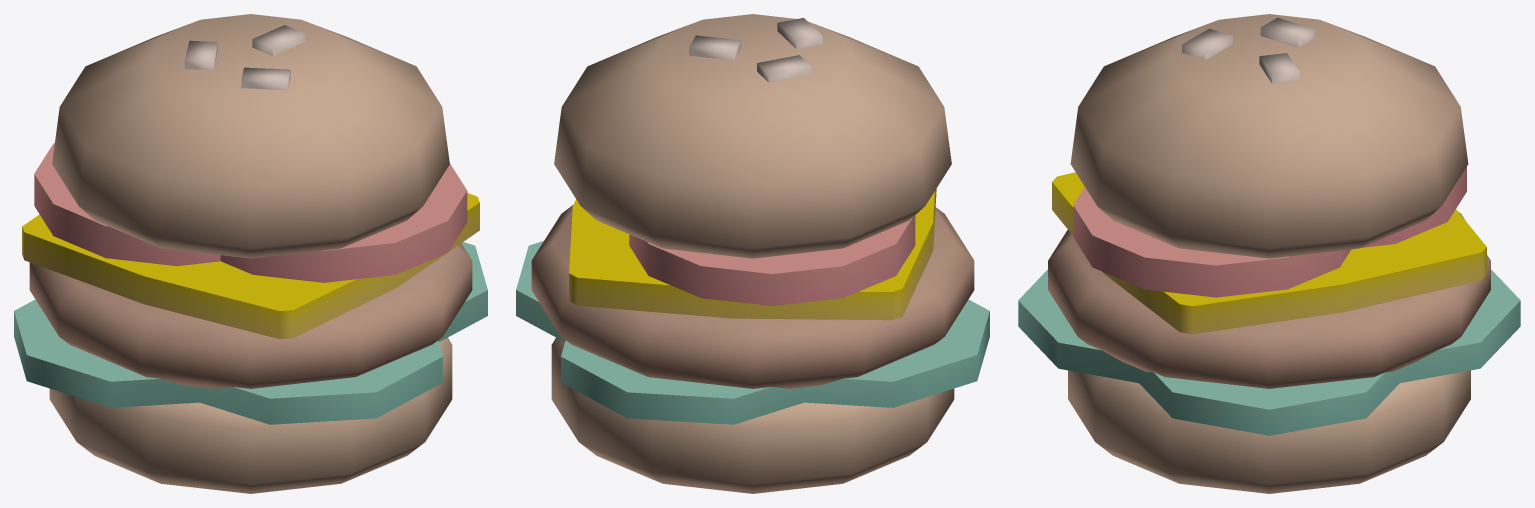
File: burger.glb
3 renders of one model, left to right at view 1: azimuth 30°, elevation 25°; view 2: azimuth 150°, elevation 25°; view 3: azimuth 270°, elevation 25°, orthographic.
Parts seen in each view (by area): view 1: burger; view 2: burger; view 3: burger.
Boxes of the visible parts, left/top/right/bottom form: burger: left=14, top=14, right=487, bottom=493; burger: left=516, top=14, right=989, bottom=493; burger: left=1018, top=14, right=1520, bottom=493.
Size of the model in its own units: 0.2752 by 0.2168 by 0.267.
